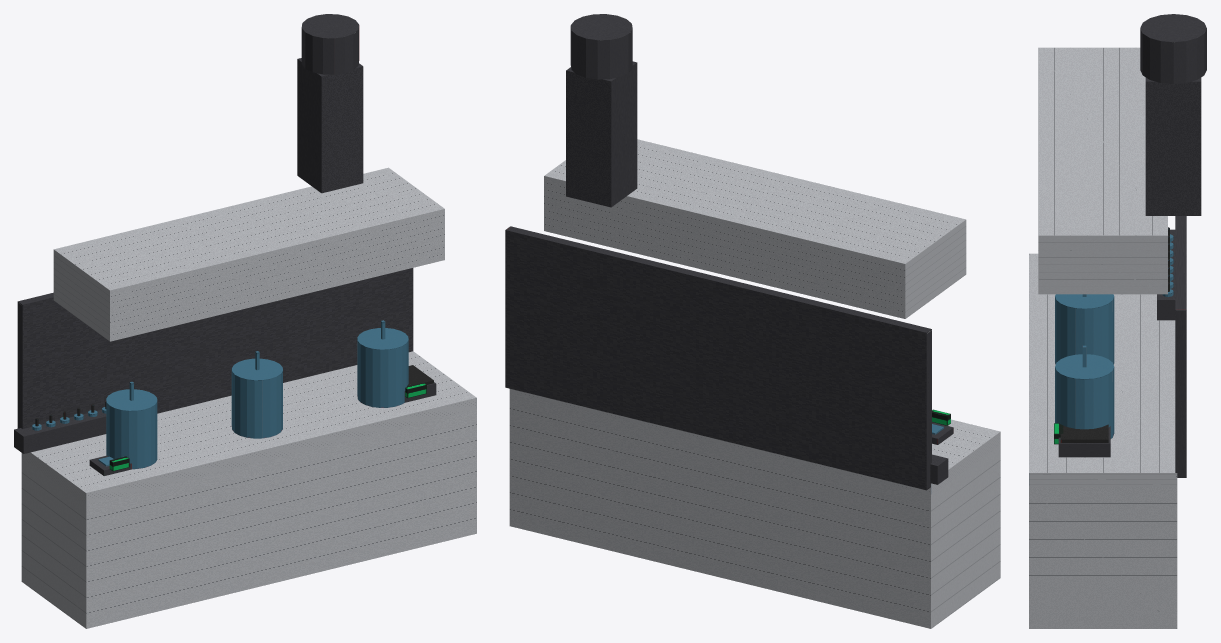
Rendered from prop_vape_mixing_station.glb.
3 renders of one model, left to right at view 1: azimuth 30°, elevation 25°; view 2: azimuth 150°, elevation 25°; view 3: azimuth 270°, elevation 25°, orthographic. The views are drawn at different scales.
Parts seen in each view (by area): view 1: Prop_Vape_Mixing_Station; view 2: Prop_Vape_Mixing_Station; view 3: Prop_Vape_Mixing_Station.
Part boxes in pixels (left/top/right/bottom): Prop_Vape_Mixing_Station: left=14, top=14, right=476, bottom=628; Prop_Vape_Mixing_Station: left=505, top=14, right=1000, bottom=628; Prop_Vape_Mixing_Station: left=1029, top=14, right=1206, bottom=628.
Bounding box in the file's own units: 2.85 × 3.3 × 0.96.
Materials: 1 (1 with a texture image).
